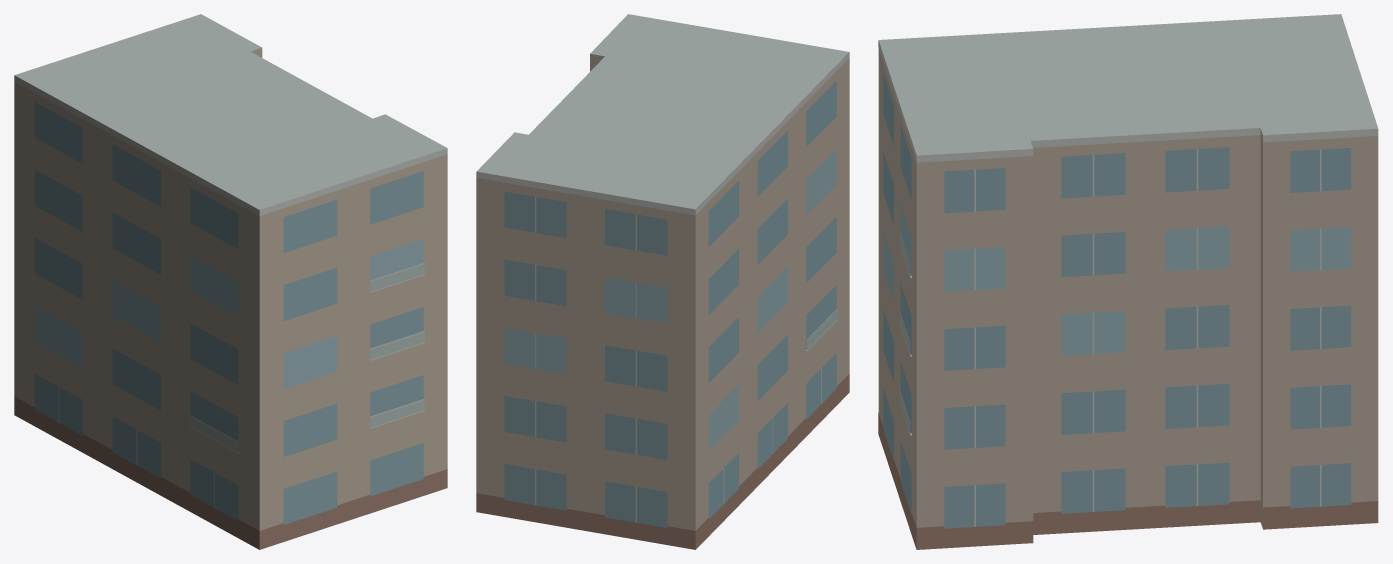
Rendered from survey-upis-32520428.glb.
The picture shows the model from 3 angles, left to right: view 1: azimuth 30°, elevation 25°; view 2: azimuth 150°, elevation 25°; view 3: azimuth 270°, elevation 25°; orthographic projection. The views are drawn at different scales.
Parts seen in each view (by area): view 1: survey-upis-32520428.tmp; view 2: survey-upis-32520428.tmp; view 3: survey-upis-32520428.tmp.
Boxes of the visible parts, <box> form: survey-upis-32520428.tmp: <box>14,14,447,549</box>; survey-upis-32520428.tmp: <box>476,14,849,549</box>; survey-upis-32520428.tmp: <box>878,14,1378,549</box>.
Size of the model in its own units: 10.49 by 13.6 by 15.64.
